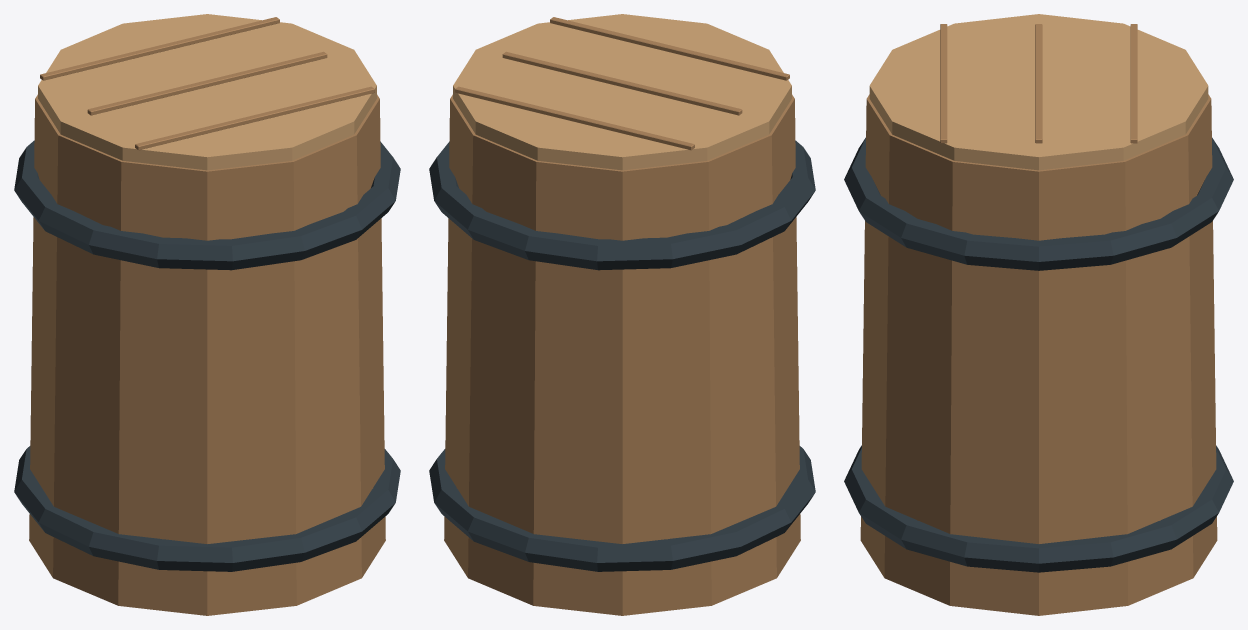
The model's file is Barrel_Wood.glb.
3 views of the same model, side by side, from view 1: azimuth 30°, elevation 25°; view 2: azimuth 150°, elevation 25°; view 3: azimuth 270°, elevation 25° (orthographic).
Visible parts, largest first — view 1: Barrel_Wood; view 2: Barrel_Wood; view 3: Barrel_Wood.
Boxes of the visible parts, bbox=[...] form: Barrel_Wood: bbox=[14, 14, 400, 615]; Barrel_Wood: bbox=[429, 14, 815, 615]; Barrel_Wood: bbox=[844, 14, 1233, 615].
Bounding box in the file's own units: 0.656 × 0.852 × 0.656.
